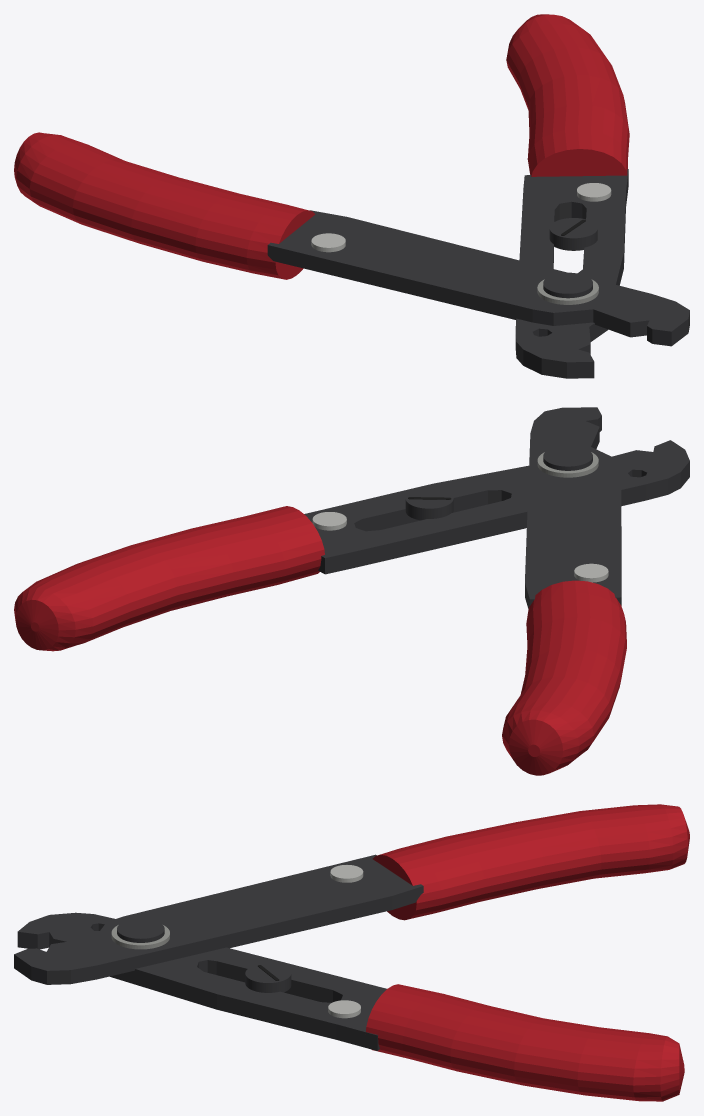
File: working.glb
The picture shows the model from 3 angles, top to bottom: view 1: azimuth 30°, elevation 25°; view 2: azimuth 150°, elevation 25°; view 3: azimuth 270°, elevation 25°; orthographic projection. The views are drawn at different scales.
Parts seen in each view (by area): view 1: Left red grip, Straight arm and hooked jaw, Right red grip, Slotted arm with pierced jaw, Adjuster head, Pivot centre, Pivot rim, Straight arm screw, Slotted arm screw; view 2: Right red grip, Left red grip, Slotted arm with pierced jaw, Straight arm and hooked jaw, Adjuster head, Pivot centre, Pivot rim, Slotted arm screw; view 3: Right red grip, Left red grip, Straight arm and hooked jaw, Slotted arm with pierced jaw, Adjuster head, Pivot centre, Pivot rim, Straight arm screw, Slotted arm screw.
Boxes of the visible parts, x1,y1,x2,y2 form: Left red grip: (14,132,315,279); Straight arm and hooked jaw: (267,210,689,346); Right red grip: (506,14,629,176); Slotted arm with pierced jaw: (515,169,628,378); Adjuster head: (549,218,597,250); Pivot centre: (543,272,592,298); Pivot rim: (537,279,598,304); Straight arm screw: (311,233,345,252); Slotted arm screw: (577,183,611,201); Right red grip: (14,506,324,651); Left red grip: (502,580,626,775); Slotted arm with pierced jaw: (304,440,689,574); Straight arm and hooked jaw: (525,407,621,608); Adjuster head: (405,488,453,520); Pivot centre: (543,445,592,470); Pivot rim: (537,452,598,477); Slotted arm screw: (312,512,346,530); Right red grip: (366,984,684,1101); Left red grip: (372,804,689,920); Straight arm and hooked jaw: (14,854,423,984); Slotted arm with pierced jaw: (17,912,386,1050); Adjuster head: (245,963,291,992); Pivot centre: (117,918,164,942); Pivot rim: (111,925,169,949); Straight arm screw: (330,865,363,882); Slotted arm screw: (328,1000,360,1018).
Bounding box in the file's own units: 0.109 × 0.011 × 0.1177.
